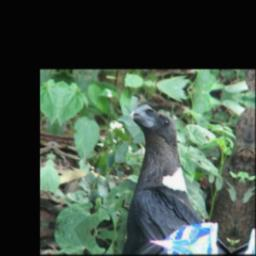Crow: (110, 102, 229, 250)
